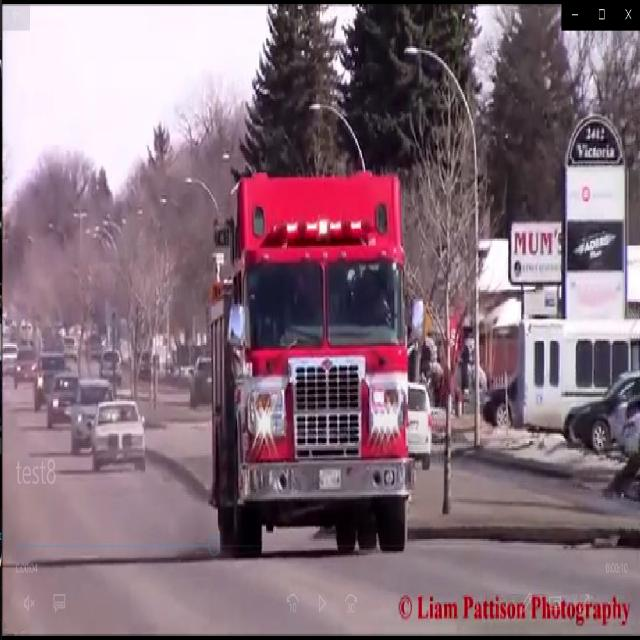emergency: (204, 168, 416, 562)
